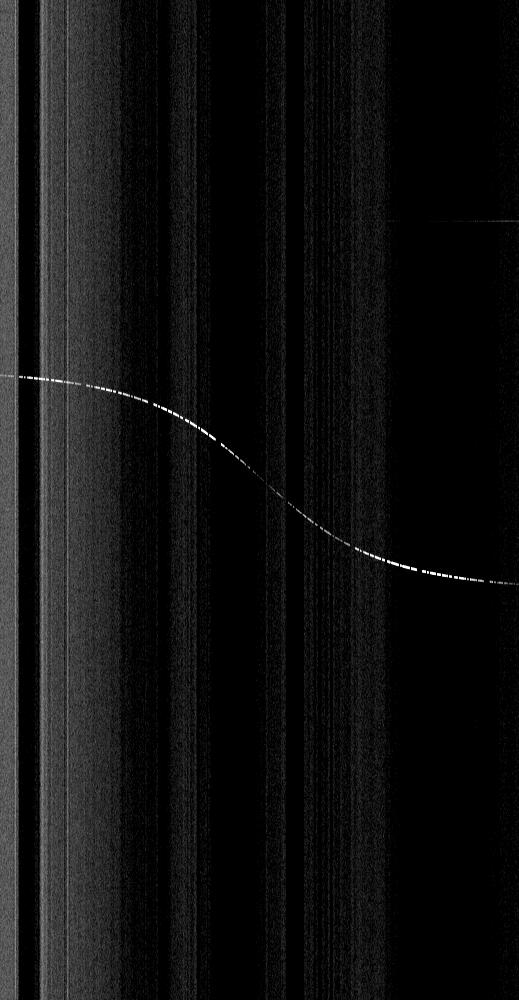signal: (0, 0, 518, 999)
